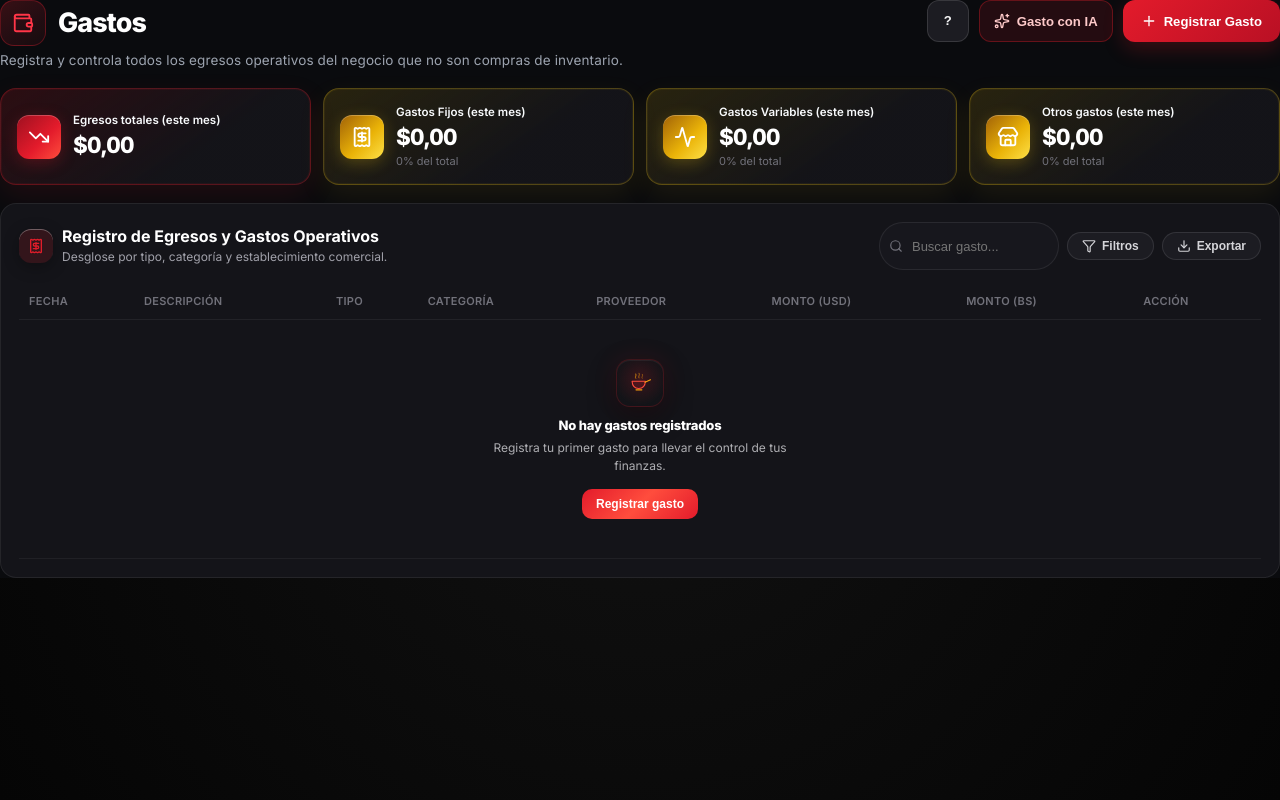
Test: Acciones de Gastos › incluye Otros como tipo de gasto y filtro
Check: the heading "No hay gastos registrados" is shown, box [558, 417, 722, 433]
Click the button "Filtros". click: point(1110, 246)
box: [1067, 232, 1154, 260]
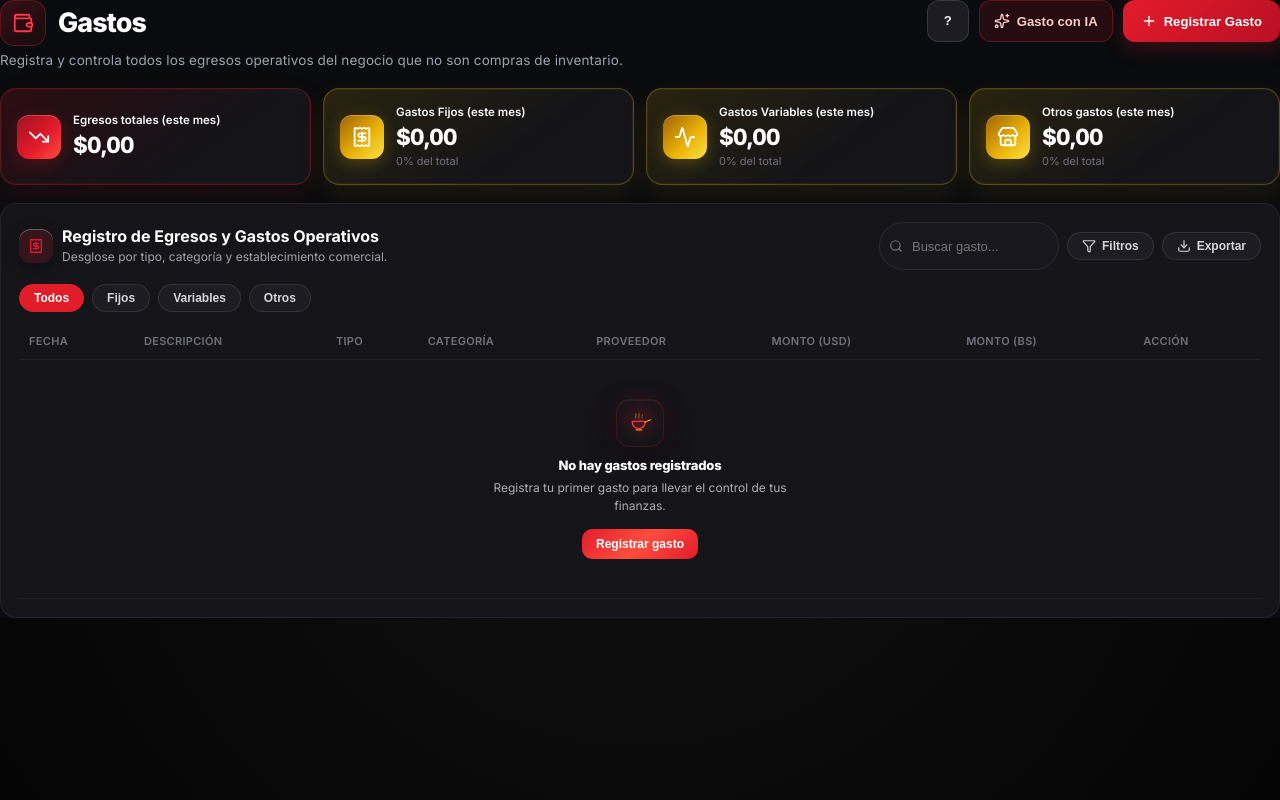
Check: the button "Otros" is shown, box [249, 284, 311, 312]
Click the button "Registrar Gasto". click: point(1201, 21)
box: [1123, 0, 1279, 42]
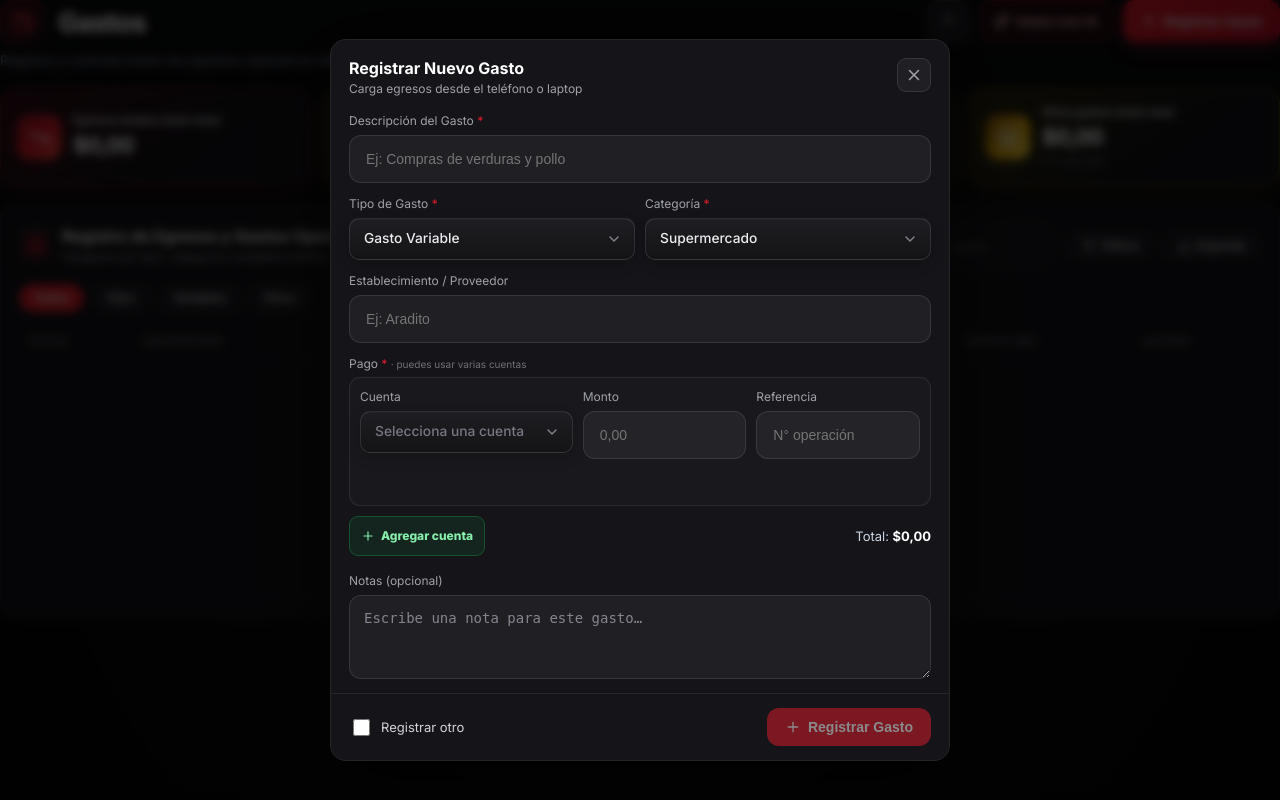
Click the button "Gasto Variable". click: point(412, 238)
box: [349, 218, 635, 260]
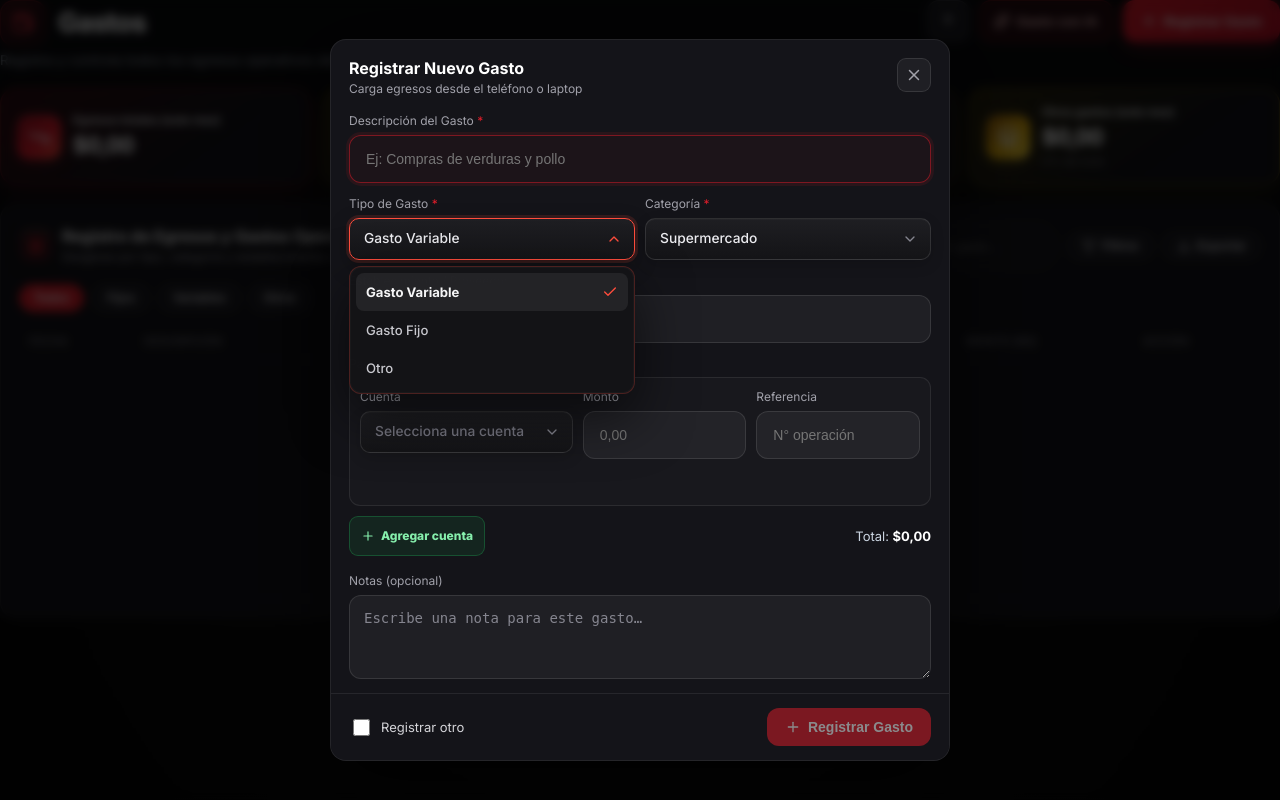
Check: the option "Otro" is shown, box [356, 349, 628, 387]
